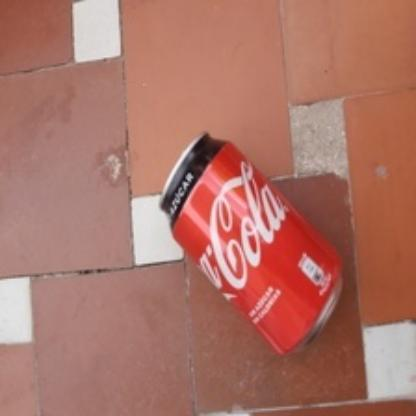Can: (158, 130, 346, 354)
